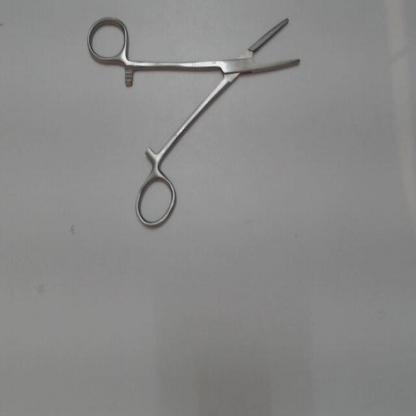Mayo Needle Holder: (82, 9, 312, 235)
